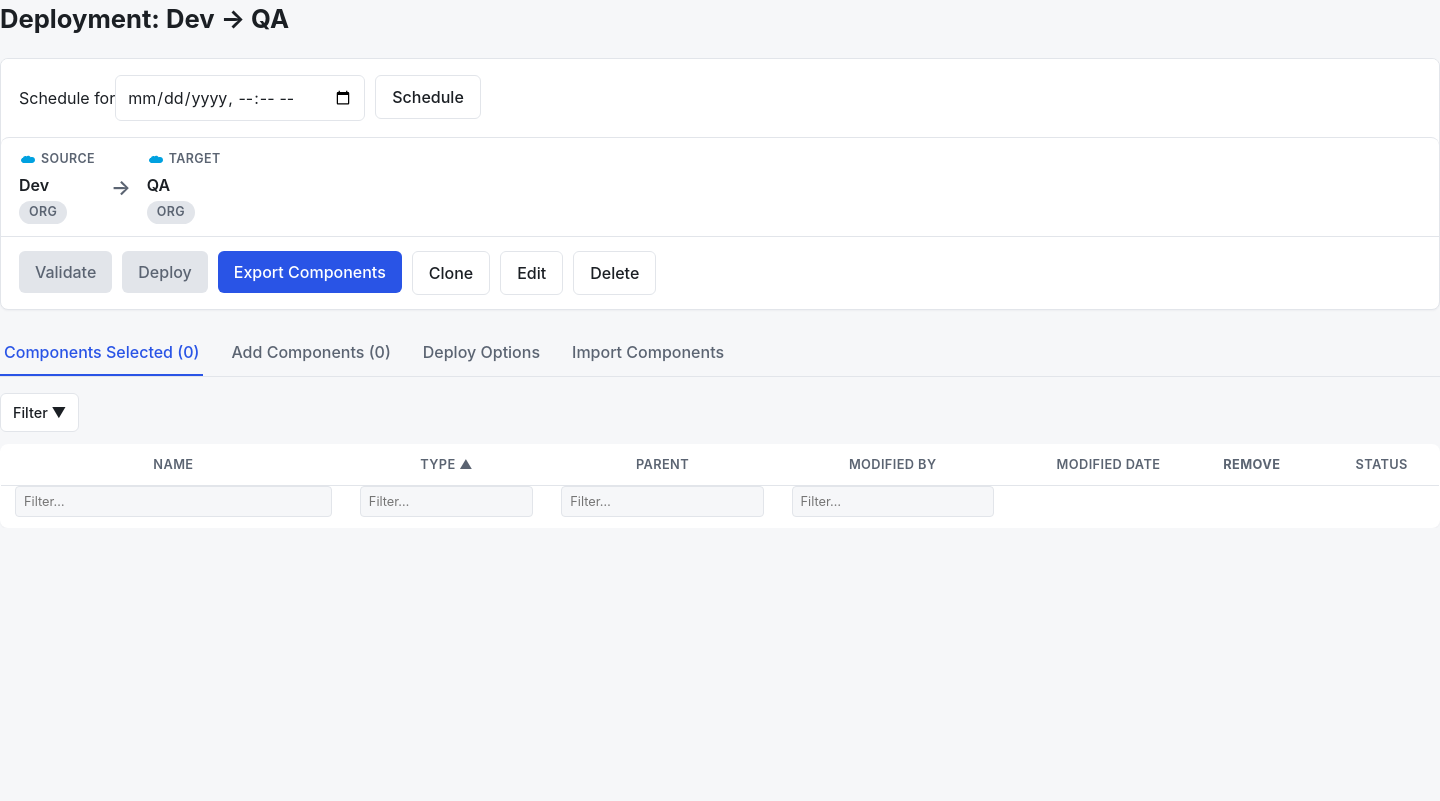
DeploymentDetailPage — reopening a pending draft › switches to the status view and resumes polling once a pending draft is deployed
Click the tab "Add Components (0)" at coordinates (311, 353), box [227,330,395,376]
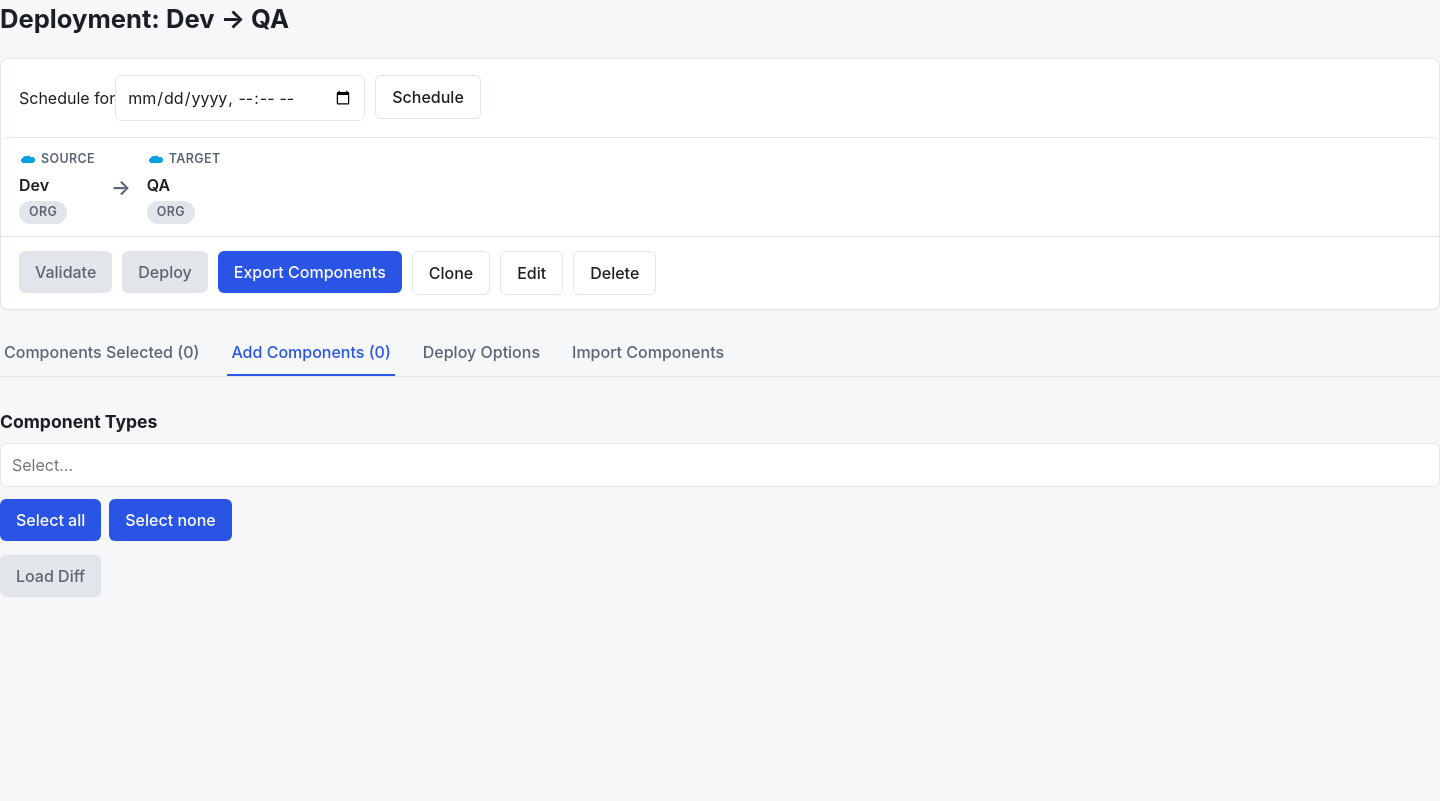
Focus the dropdown named "metadata types" at coordinates (720, 465), box [0,443,1439,487]
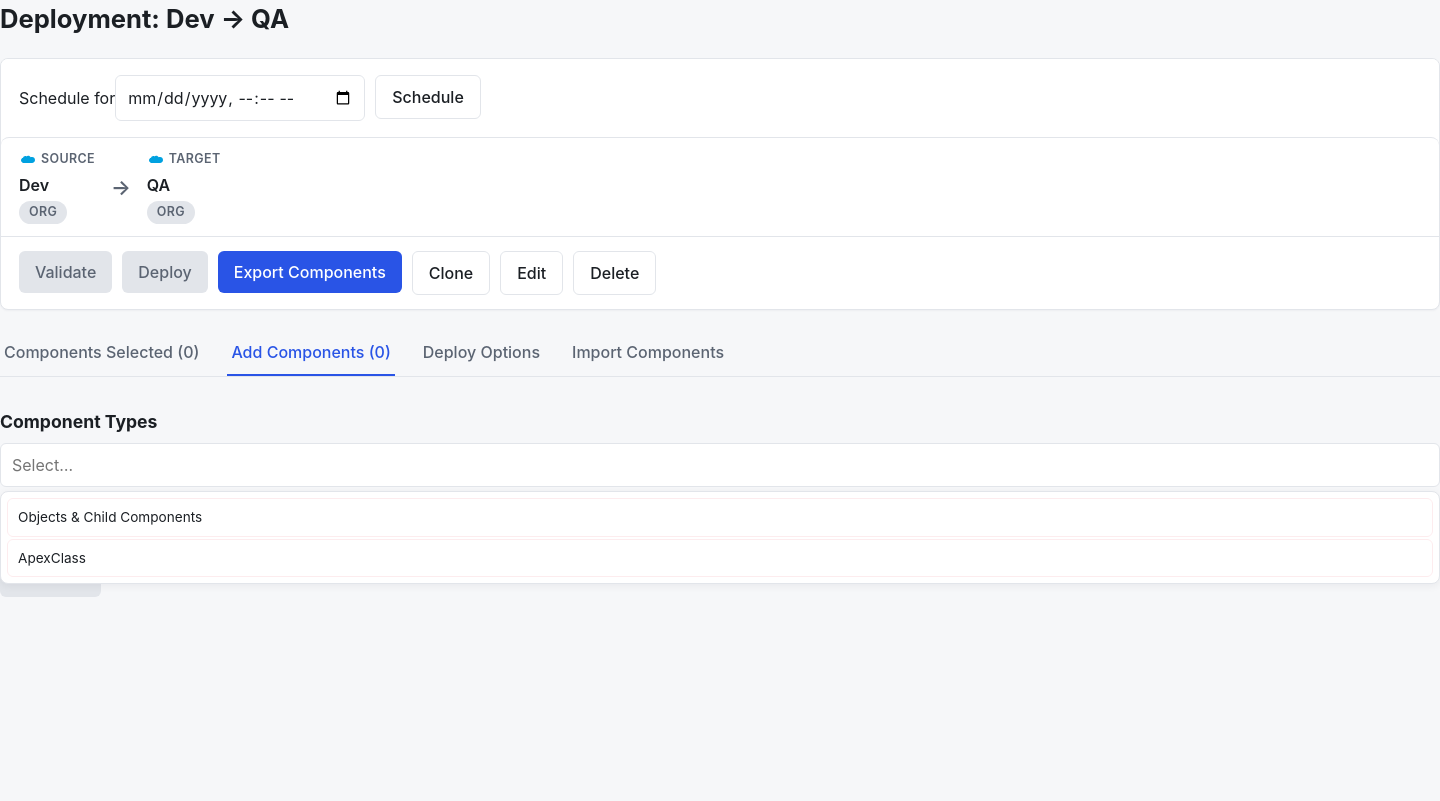
Press the mouse on the option "ApexClass" at coordinates (52, 558), box [7,539,1433,577]
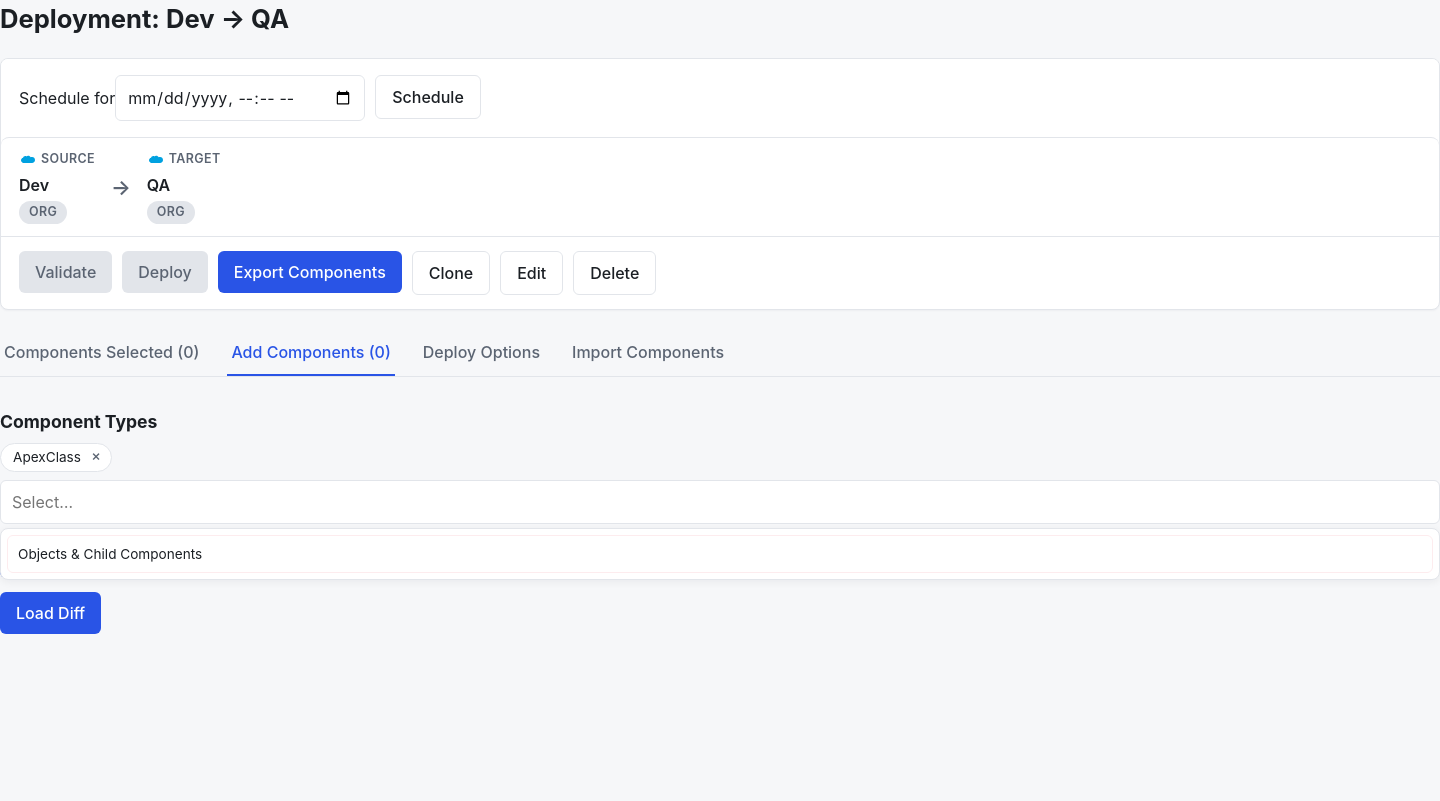
Click the button "Load Diff" at coordinates (51, 613), box [0,592,101,634]
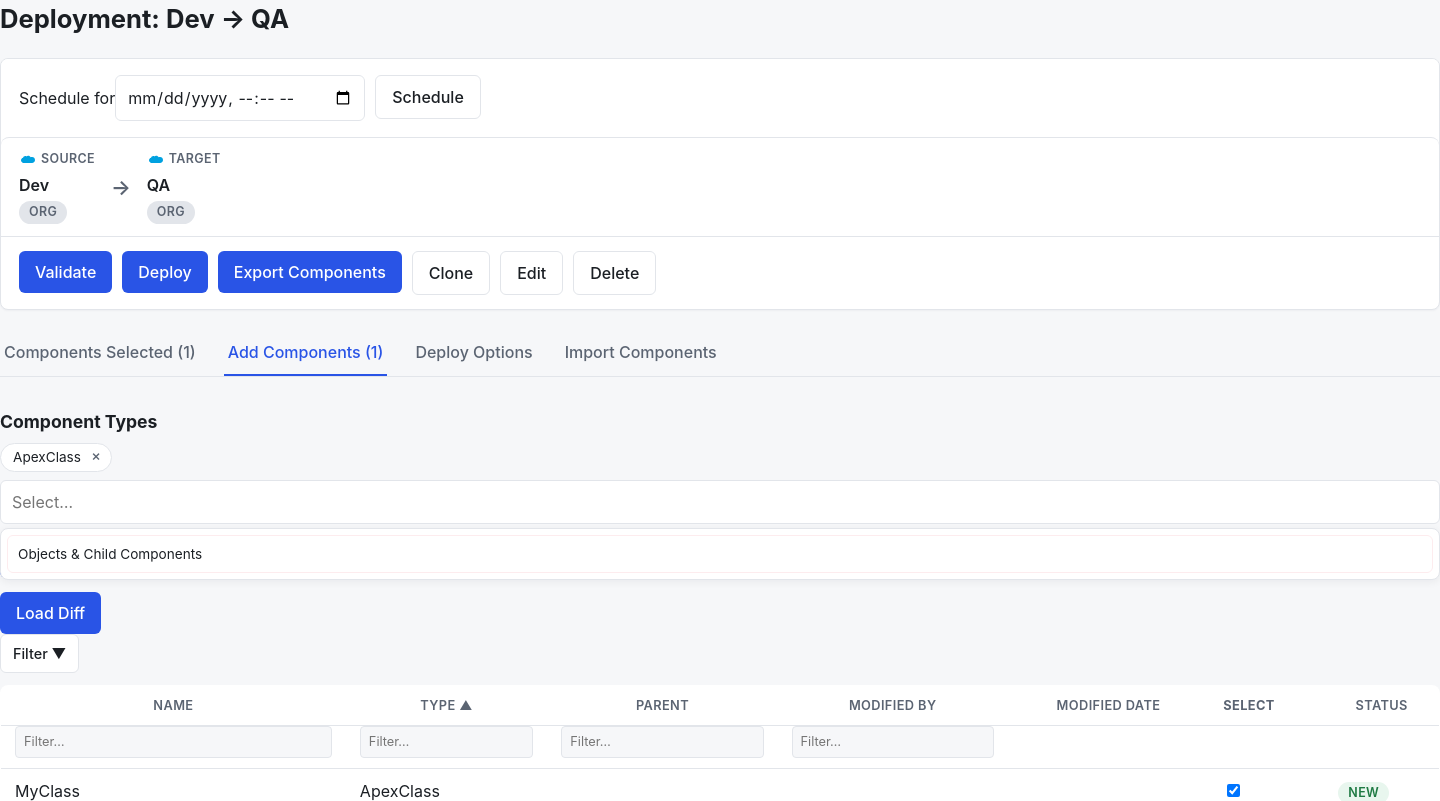
Click the button "Deploy" at coordinates (165, 272), box [122,251,208,293]
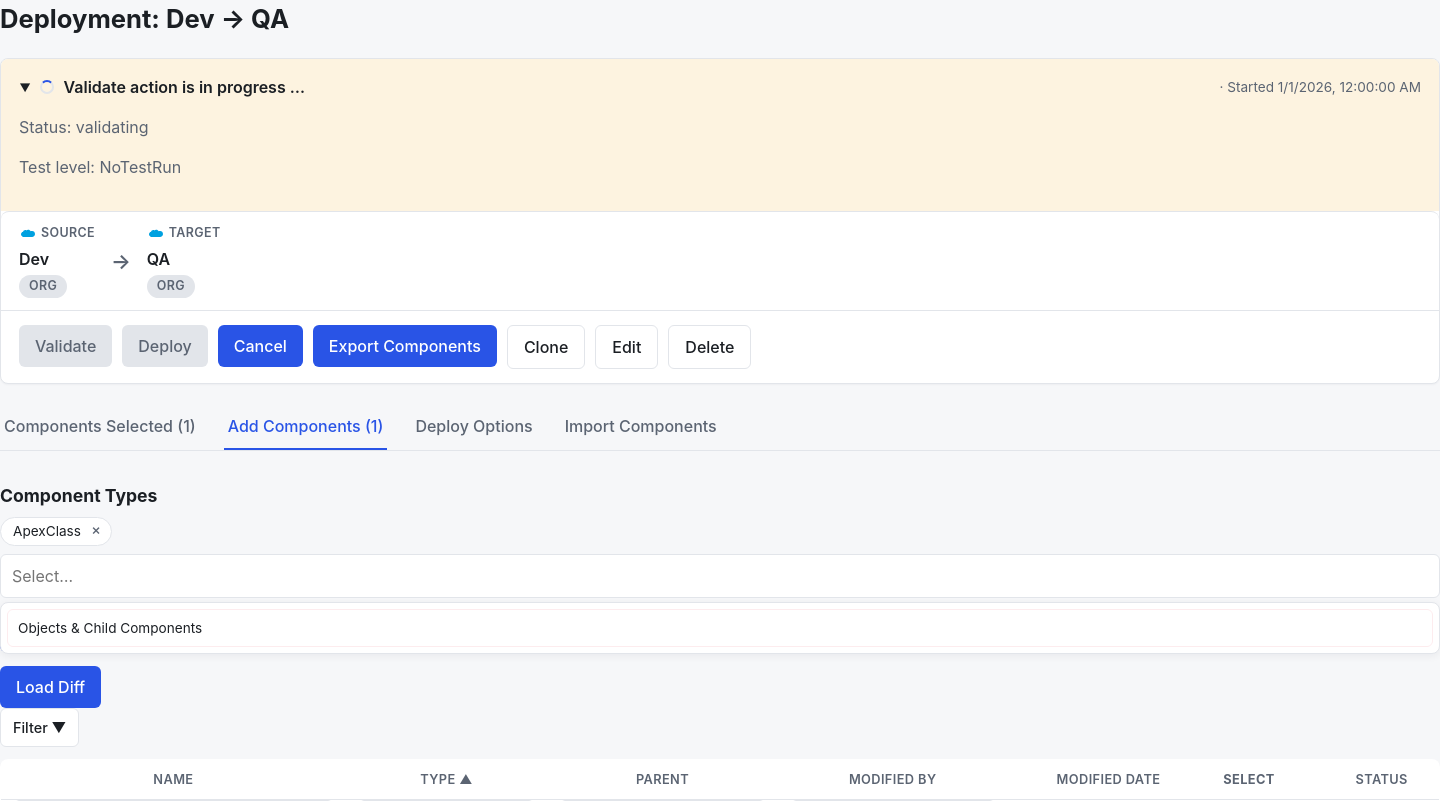
Check: the text "Status: validating" is shown, box [19,117,149,137]
